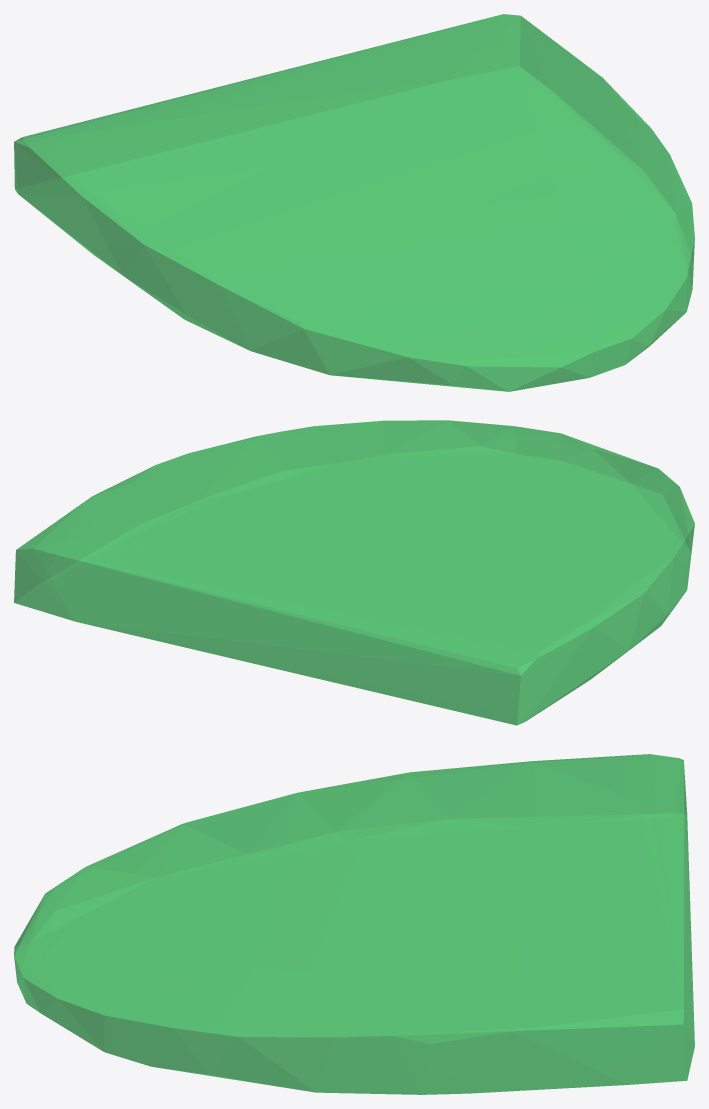
3 renders of one model, top to bottom at view 1: azimuth 30°, elevation 25°; view 2: azimuth 150°, elevation 25°; view 3: azimuth 270°, elevation 25°, orthographic. The views are drawn at different scales.
Parts seen in each view (by area): view 1: Shape_IndexedFaceSet.001_Shape_IndexedFaceSet.18738; view 2: Shape_IndexedFaceSet.001_Shape_IndexedFaceSet.18738; view 3: Shape_IndexedFaceSet.001_Shape_IndexedFaceSet.18738.
Boxes of the visible parts, left/top/right/bottom form: Shape_IndexedFaceSet.001_Shape_IndexedFaceSet.18738: left=14, top=14, right=694, bottom=391; Shape_IndexedFaceSet.001_Shape_IndexedFaceSet.18738: left=14, top=420, right=694, bottom=725; Shape_IndexedFaceSet.001_Shape_IndexedFaceSet.18738: left=14, top=754, right=694, bottom=1094.
Size of the model in its own units: 1.07 by 0.1664 by 1.14.
